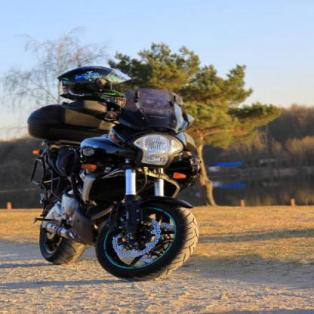Motocicleta: (22, 73, 205, 283)
